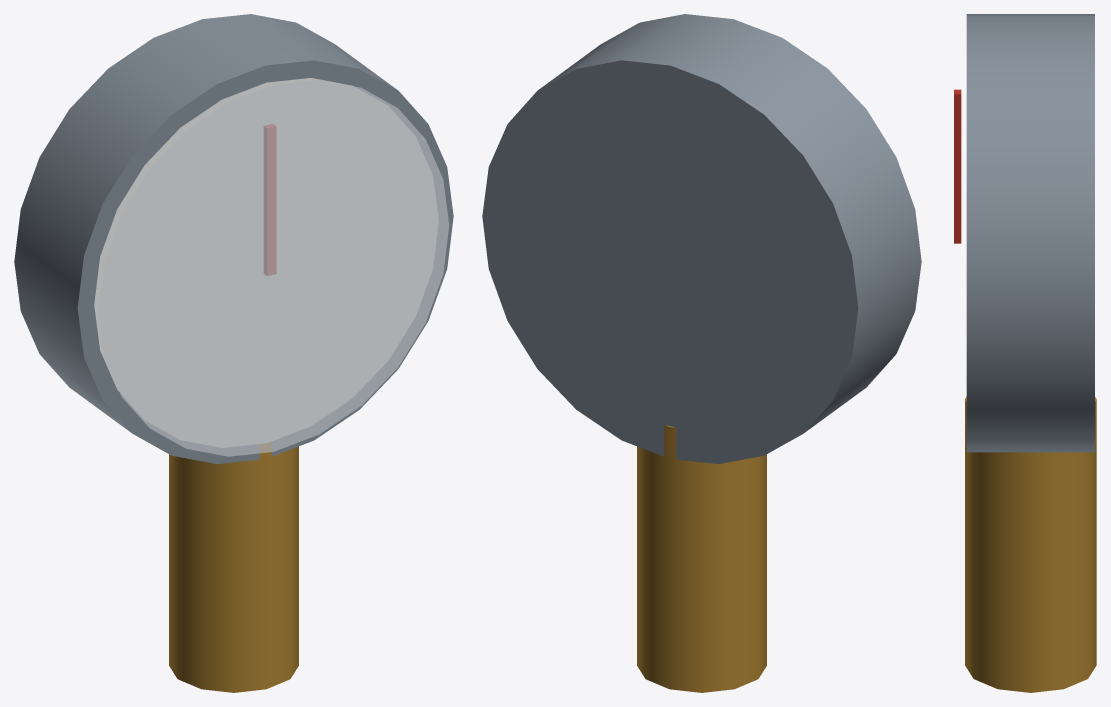
The model's file is pressure-sensor.glb.
3 views of the same model, side by side, from view 1: azimuth 30°, elevation 25°; view 2: azimuth 150°, elevation 25°; view 3: azimuth 270°, elevation 25° (orthographic).
Parts seen in each view (by area): view 1: object 5, object 3, object 2, object 1, needle; view 2: object 2, object 1; view 3: object 2, object 1, needle.
Part boxes in pixels (x1=…): object 5: x1=98, y1=79, x2=449, y2=456; object 3: x1=94, y1=78, x2=438, y2=447; object 2: x1=14, y1=14, x2=453, y2=464; object 1: x1=169, y1=442, x2=298, y2=692; needle: x1=264, y1=124, x2=276, y2=275; object 2: x1=482, y1=14, x2=921, y2=464; object 1: x1=637, y1=425, x2=766, y2=692; object 2: x1=966, y1=14, x2=1094, y2=452; object 1: x1=965, y1=397, x2=1096, y2=692; needle: x1=954, y1=89, x2=961, y2=243.
Bounding box in the file's own units: 0.12 × 0.19 × 0.04.
